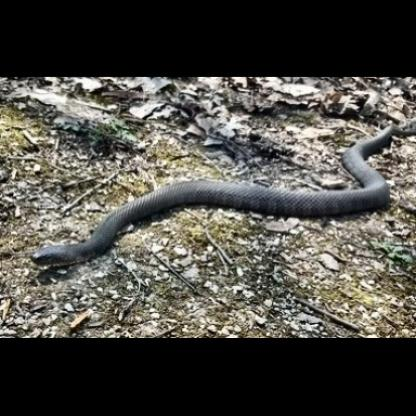Snake: (1, 104, 416, 301)
